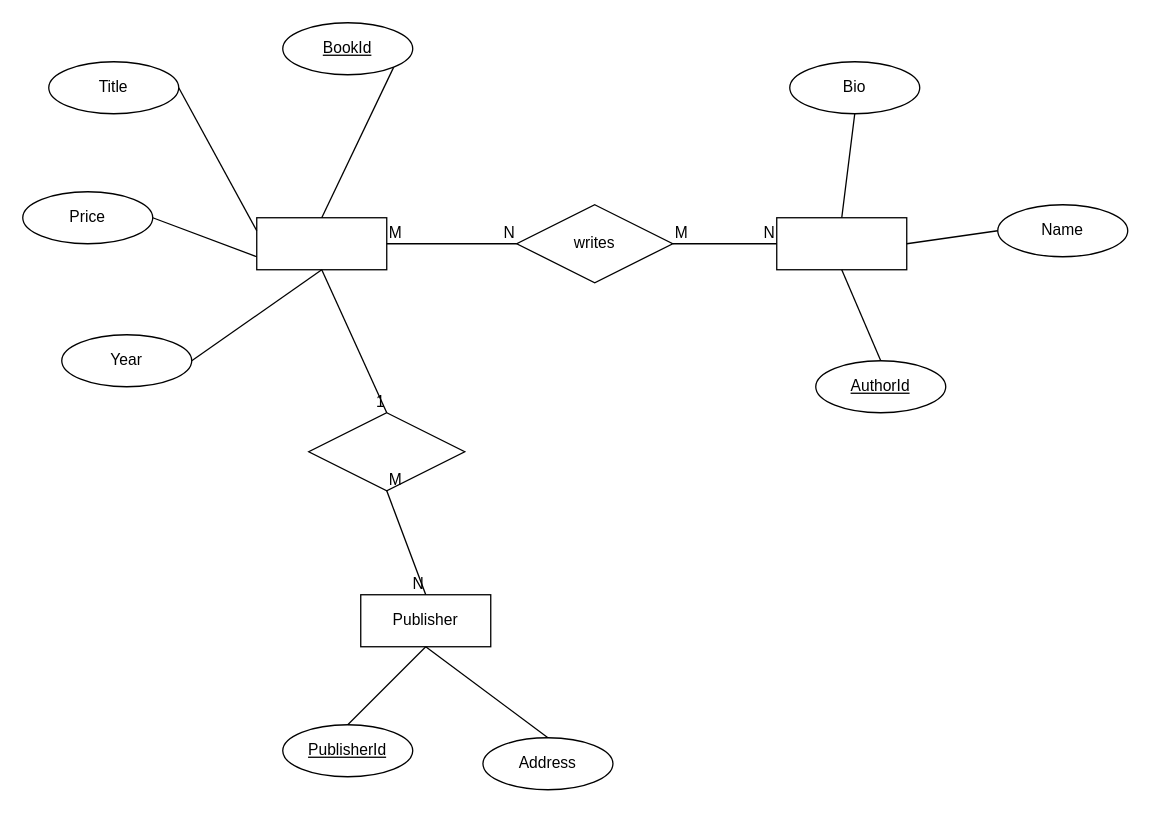
Image size: 1151x813. Some labels were removed from this diagram. Each missing label, with the box of its shape:
Author: (775, 216, 907, 270)
Book: (255, 216, 387, 270)
Relationship: (307, 411, 465, 491)
